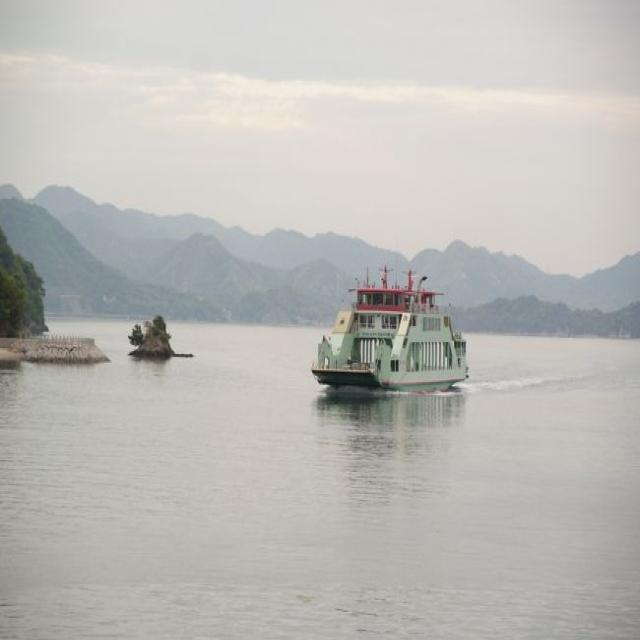houseboat: (310, 256, 476, 389)
